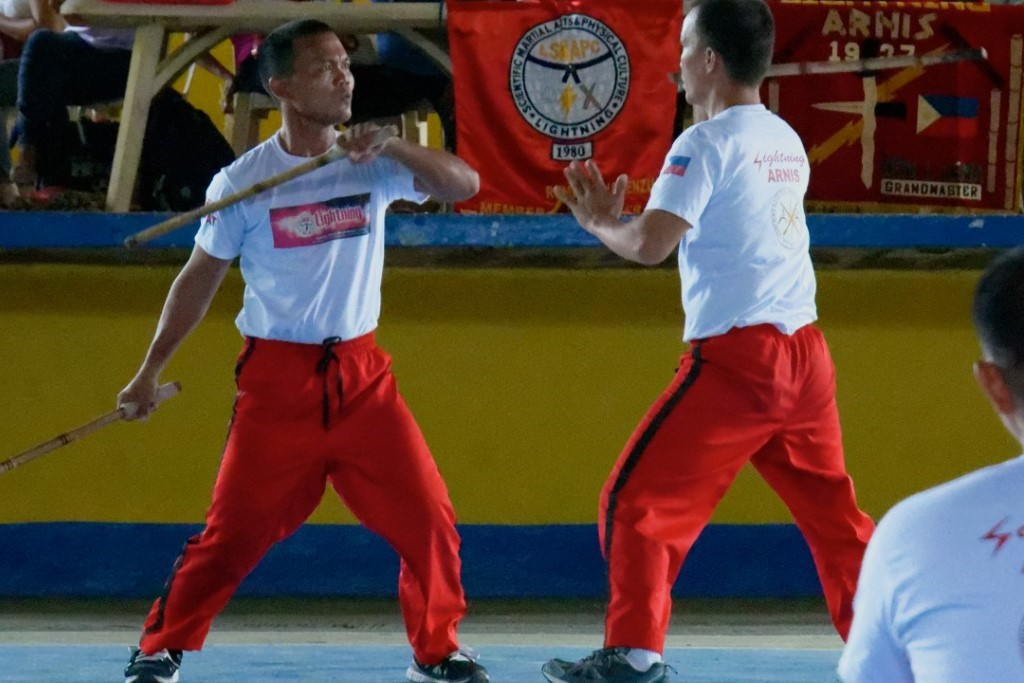baston_e: (135, 125, 390, 249), (2, 381, 175, 477)
baston_v: (119, 232, 141, 255), (167, 376, 187, 398), (383, 120, 401, 139)
